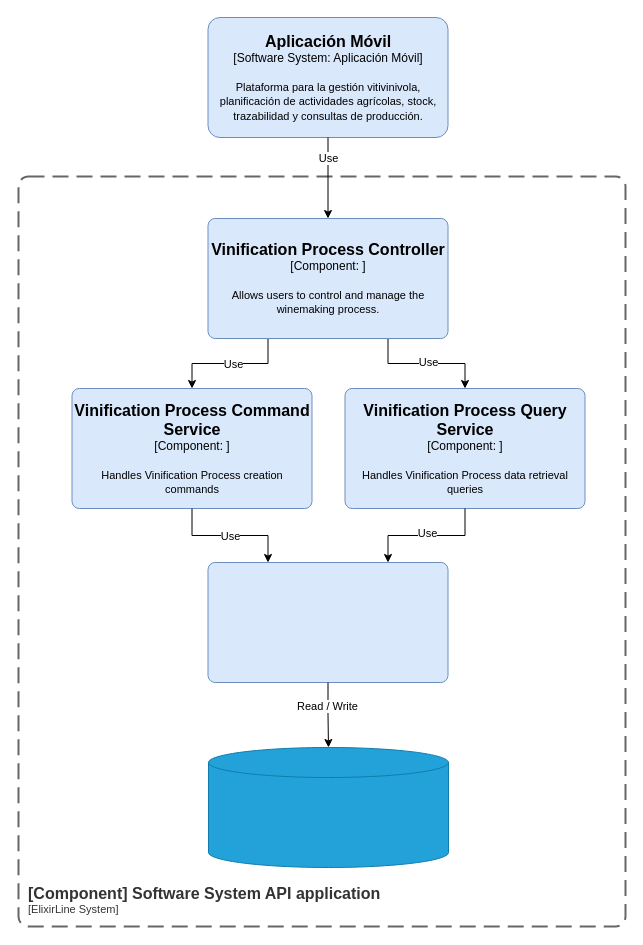
Some shapes in this 643 by 945 pixel diagram are drawn without their labels. The shapes that lost their labels are listed below. From the top down, each one's centre as x and y in pixels, then its label:
pixel 327 622: Vinification Process Repository [Component: ] Defines repository methods
pixel 328 807: Database [Container: MySQL] Alamacena y provee los datos
